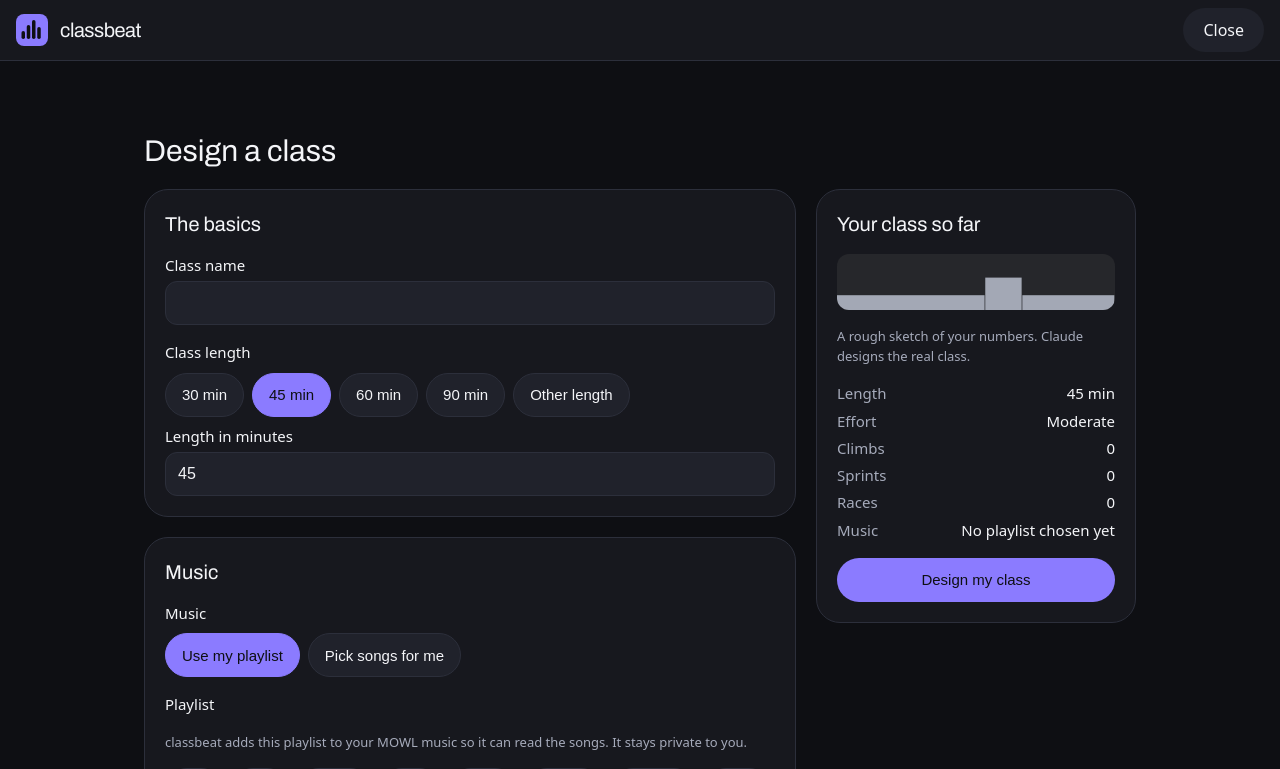
Scenario: the new-class form › words the refusals of a pick
The width and height of the screenshot is (1280, 769).
Type "Songs class" into the field labelled "Class name".
click(470, 303); type("Songs class")  # box [165,281,775,325]
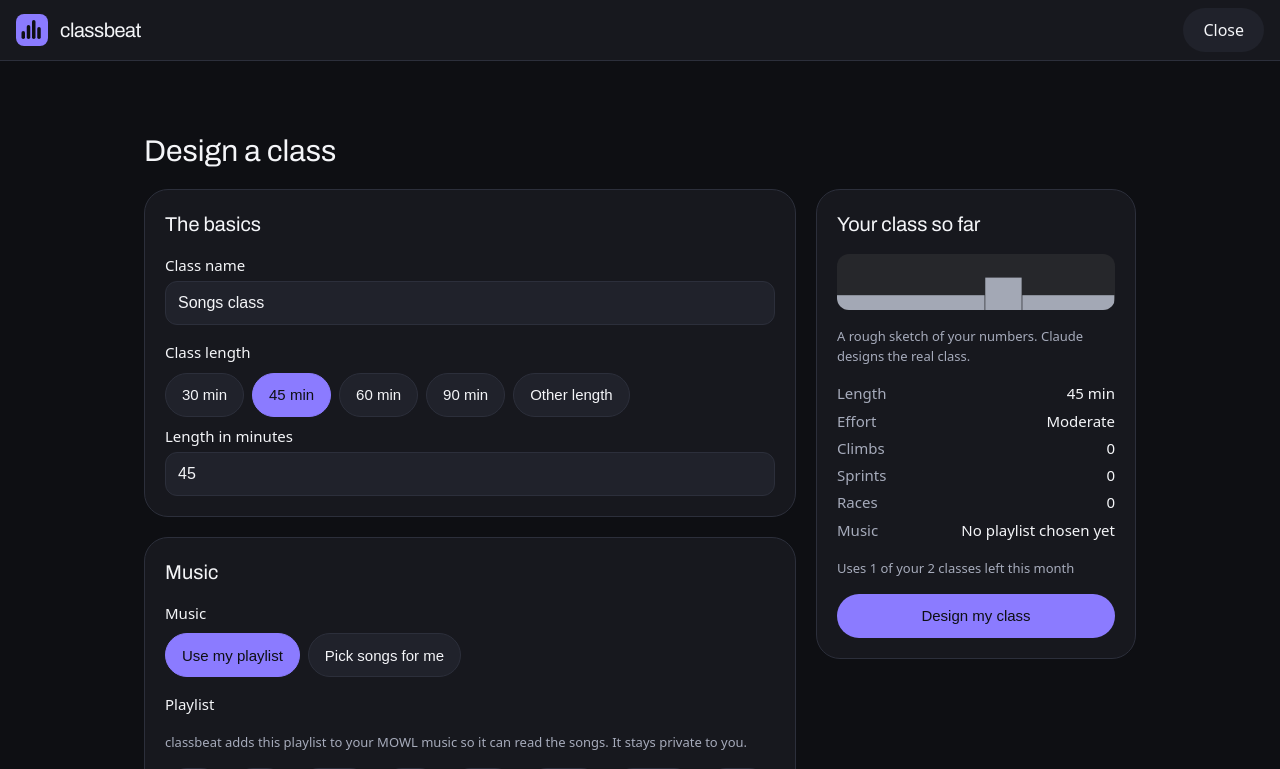
Click the button "Pick songs for me".
click(384, 655)  # box [308,633,461,677]
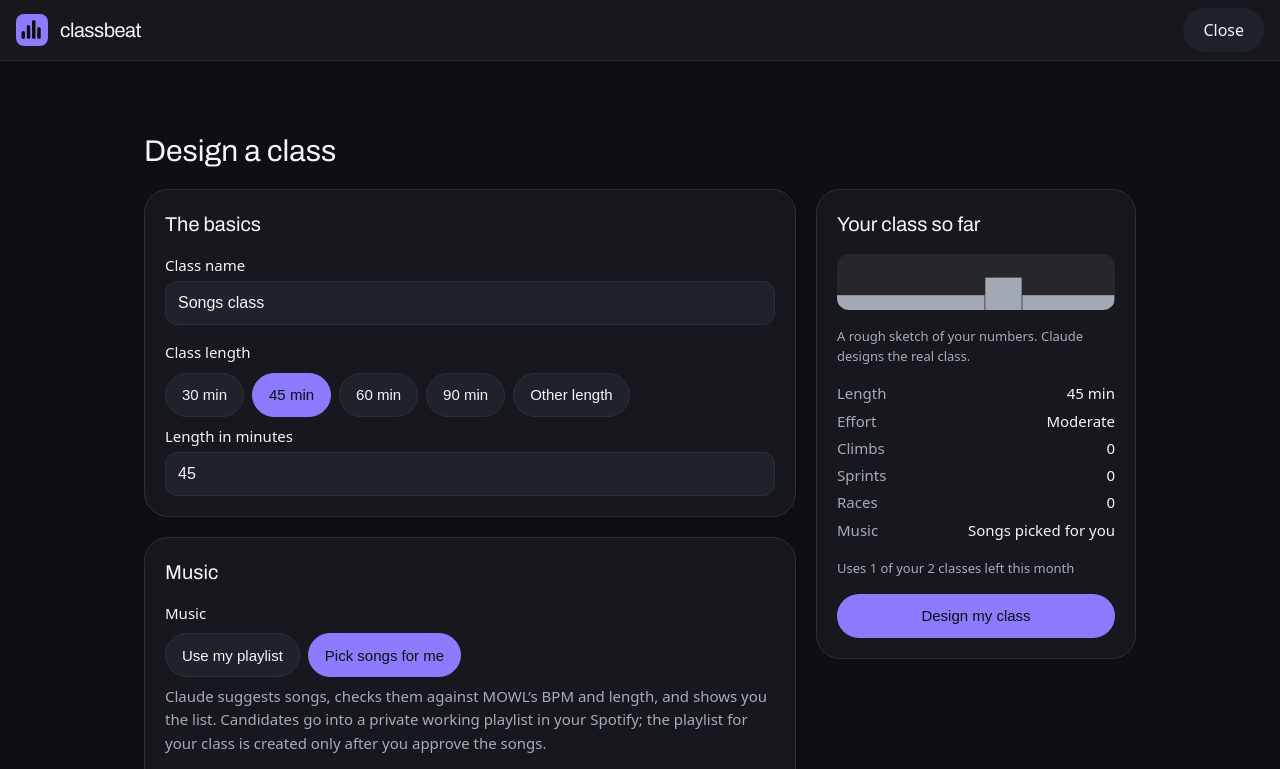
Click the button "Design my class".
click(976, 616)  # box [837,594,1115,638]
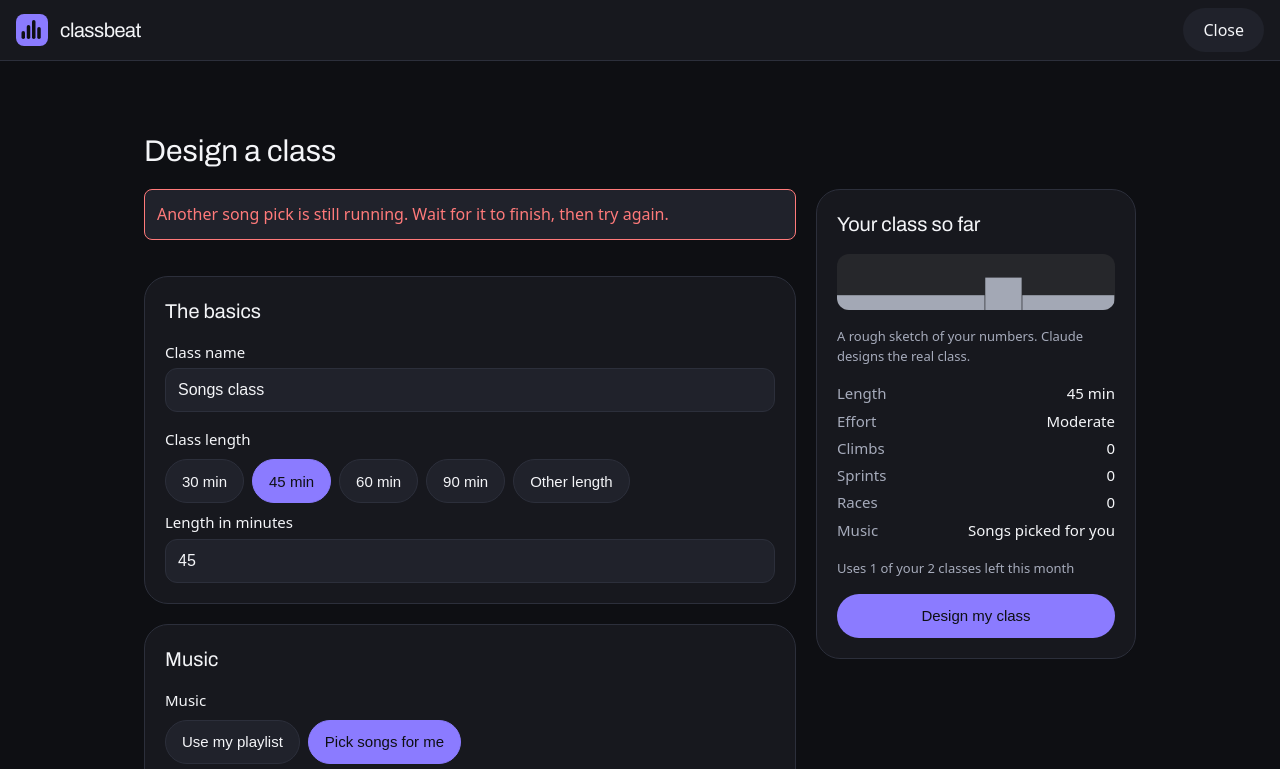
Expected: the message shows "Another song pick is still running", [157,203,669,225]
